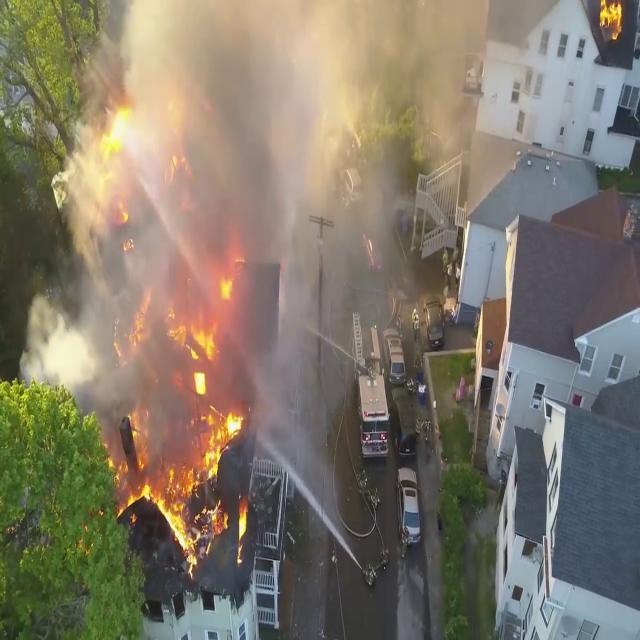Fire: (119, 280, 251, 562)
Smoke: (29, 0, 481, 436), (20, 284, 94, 392)
